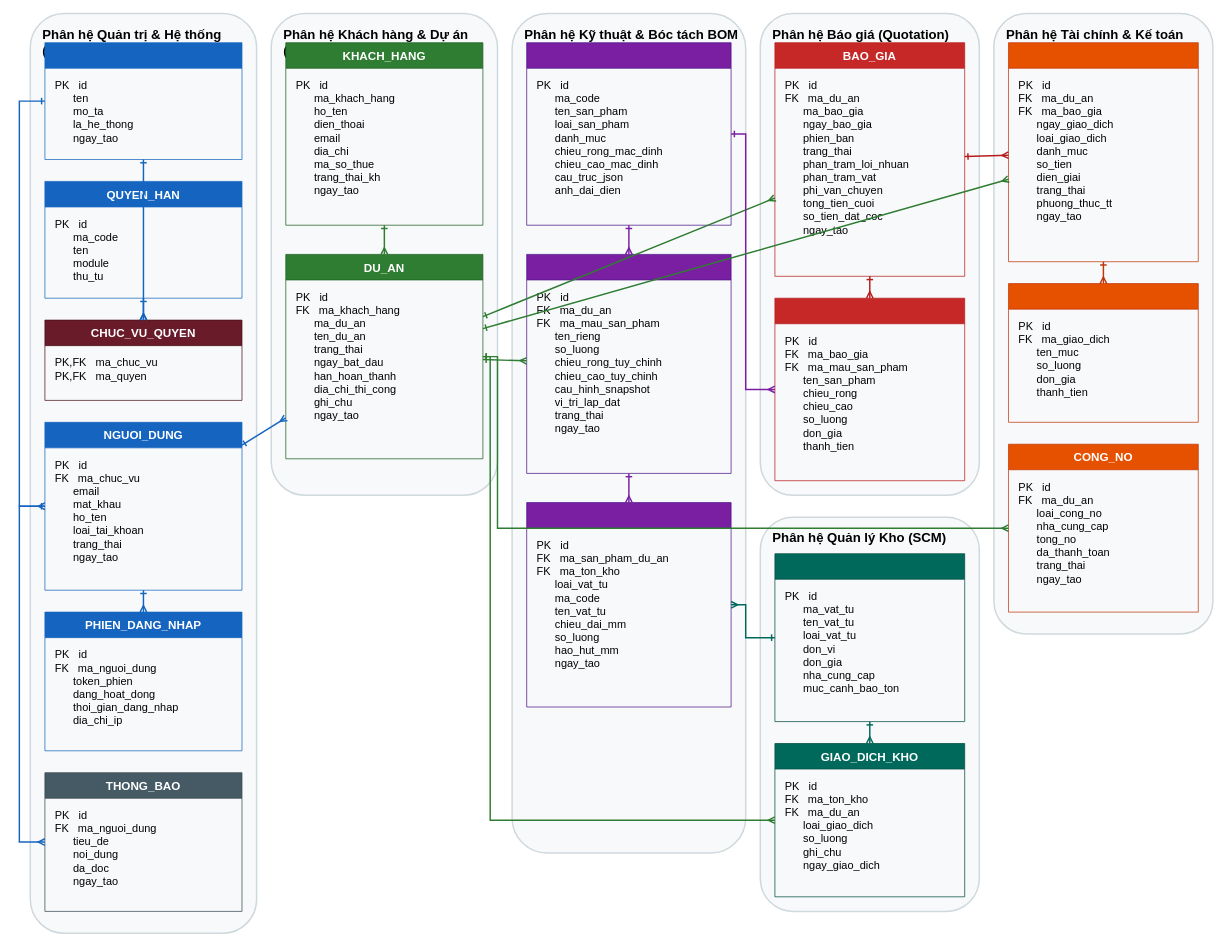
This 1226x946 diagram has some shape labels left out. Each missing label, with the box of its shape:
CHI_TIET_BAO_GIA: (774, 297, 965, 481)
CHI_TIET_GIAO_DICH: (1008, 283, 1198, 422)
CHUC_VU: (44, 42, 242, 160)
GIAO_DICH_TAI_CHINH: (1008, 42, 1198, 262)
MAU_SAN_PHAM: (526, 42, 731, 225)
SAN_PHAM_DU_AN: (526, 254, 731, 473)
TON_KHO: (774, 553, 965, 722)
VAT_TU_BOM: (526, 502, 731, 707)
